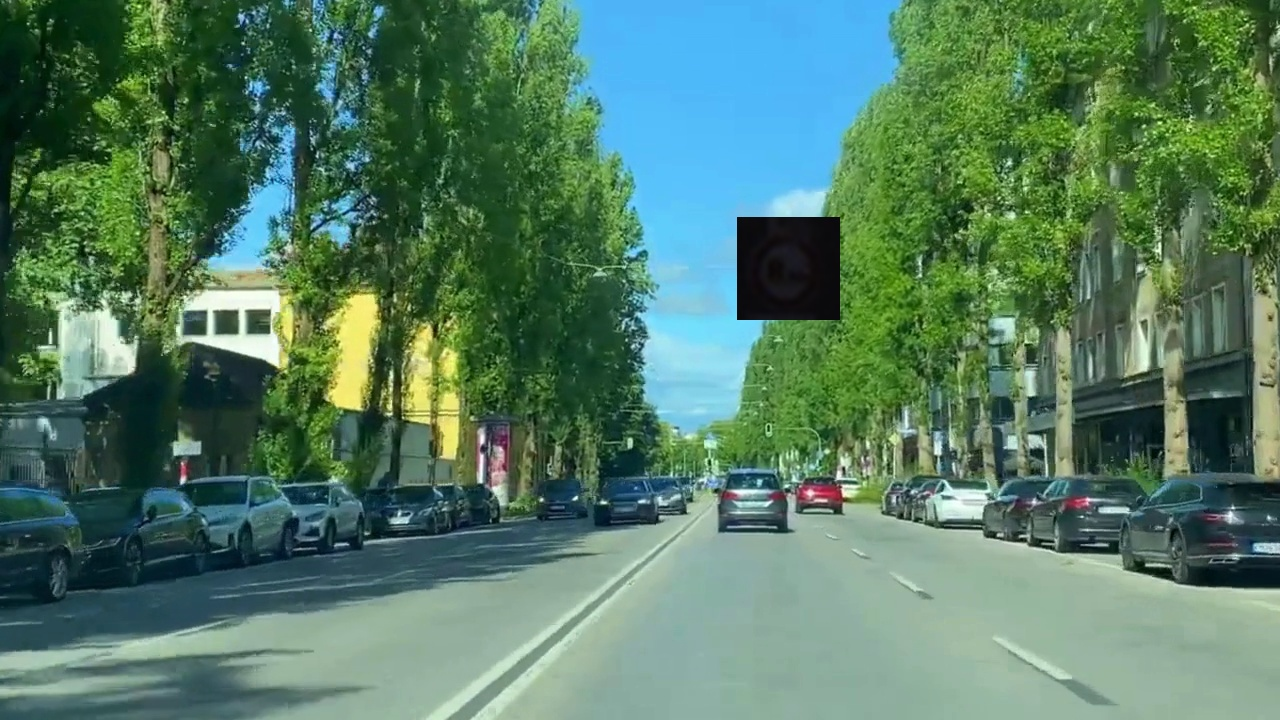No pass >3.5t: (737, 217, 840, 320)
